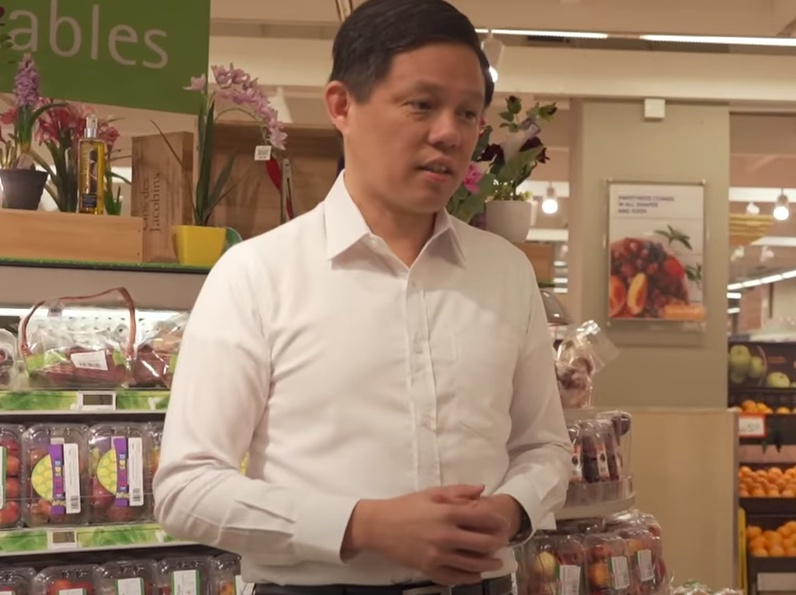mouth: (415, 156, 453, 182)
nose: (427, 127, 460, 148)
